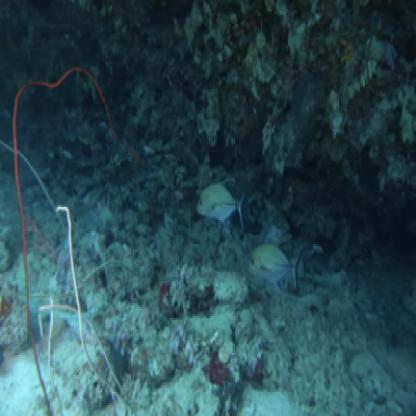Carangidae -Jacks-: (192, 173, 256, 243), (248, 239, 311, 310)
